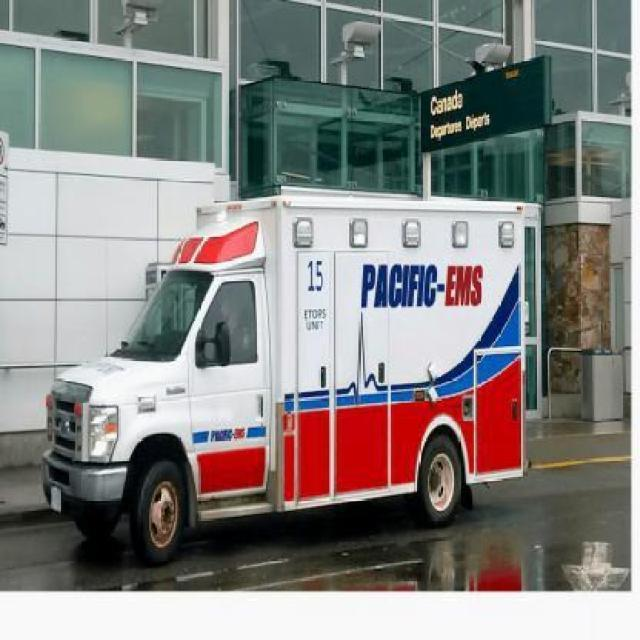emergency: (39, 188, 541, 564)
